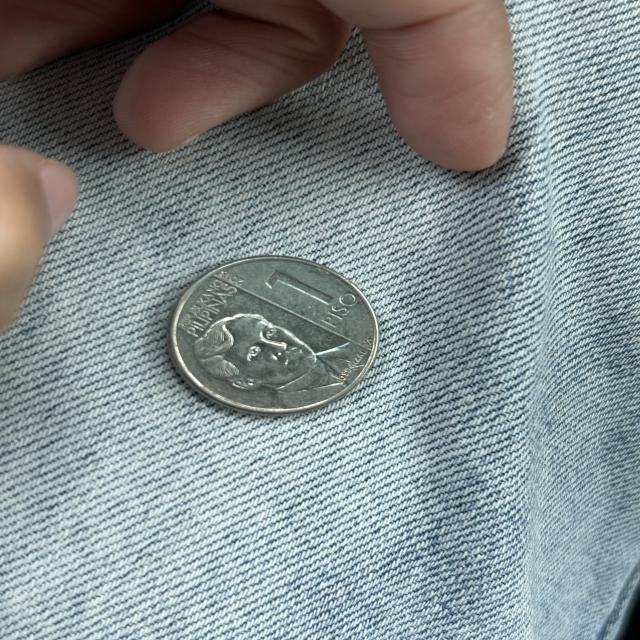1_New_Front: (263, 262, 356, 330)
